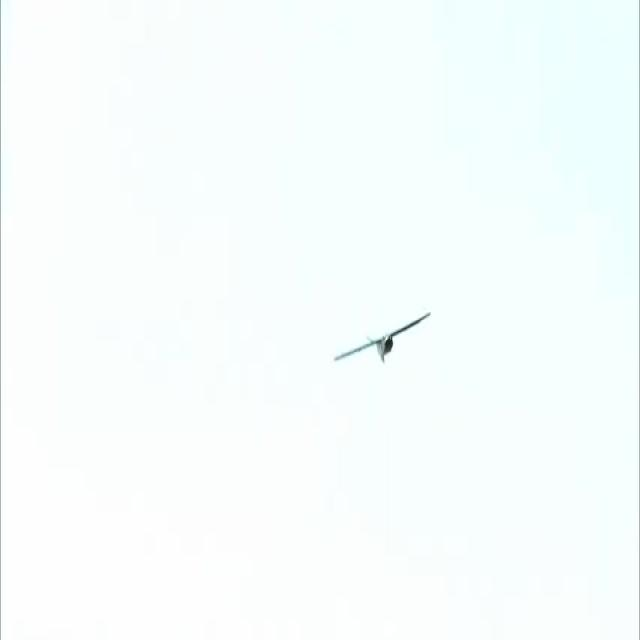iha: (365, 311, 400, 362)
